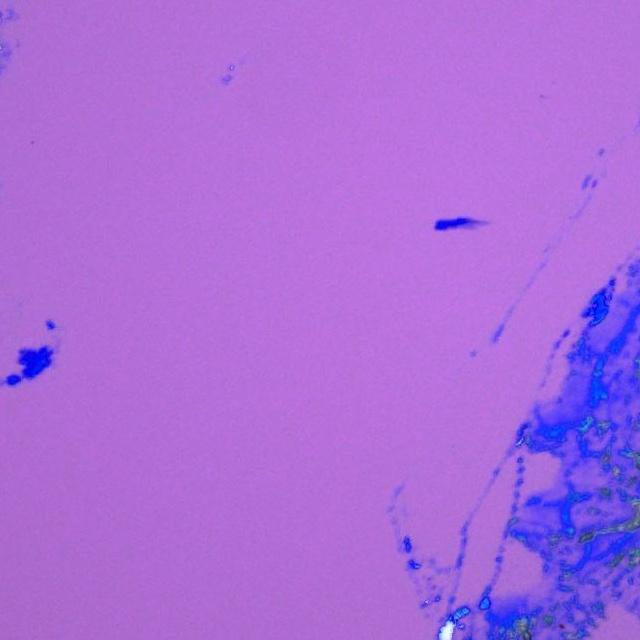monolayer-eWW4: (460, 220, 488, 230)
